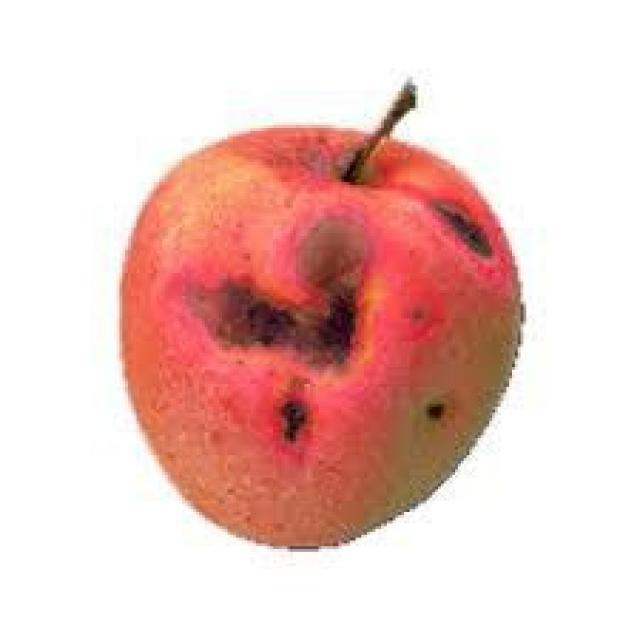Rotten: (135, 120, 517, 520)
